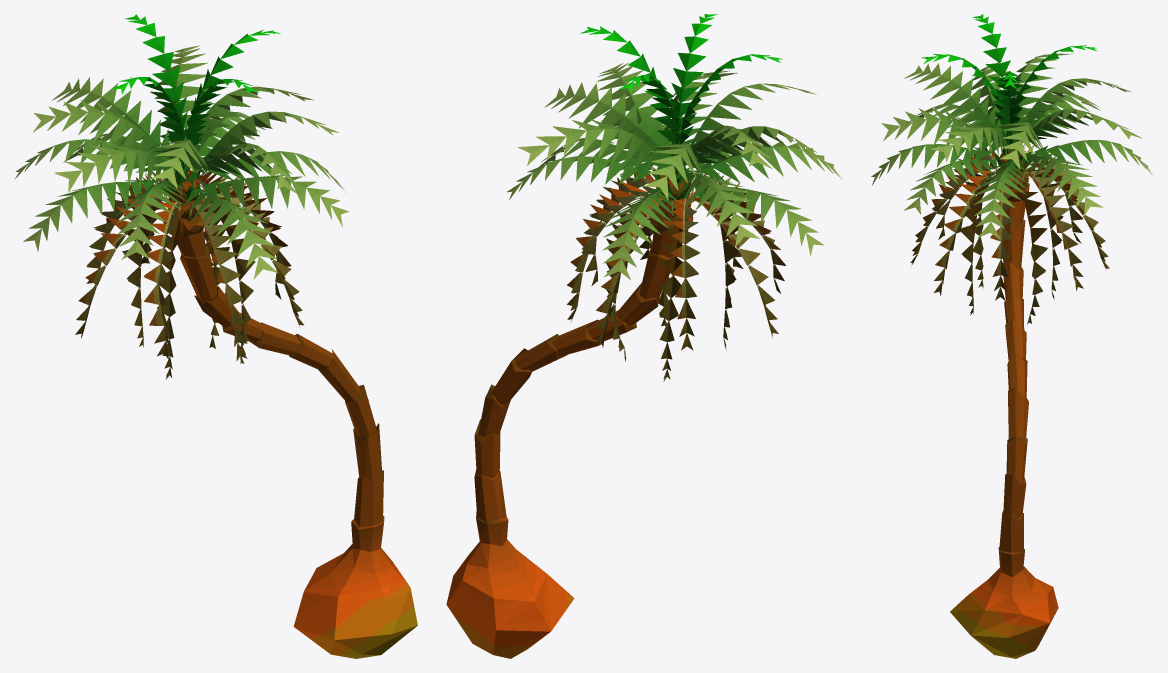
Rendered from ExoticPalmCurve.glb.
3 views of the same model, side by side, from view 1: azimuth 30°, elevation 25°; view 2: azimuth 150°, elevation 25°; view 3: azimuth 270°, elevation 25° (orthographic). The views are drawn at different scales.
Visible parts, largest first — view 1: ExoticPalmCurveLeaves, ExoticPalmCurveGroundBase, ExoticPalmCurveBasicBark.003, ExoticPalmCurveFalenLeaves, ExoticPalmCurveYoungLeaves, ExoticPalmCurveDeathLeaves, ExoticPalmCurveExtraBark; view 2: ExoticPalmCurveLeaves, ExoticPalmCurveGroundBase, ExoticPalmCurveBasicBark.003, ExoticPalmCurveFalenLeaves, ExoticPalmCurveYoungLeaves, ExoticPalmCurveDeathLeaves, ExoticPalmCurveExtraBark; view 3: ExoticPalmCurveLeaves, ExoticPalmCurveGroundBase, ExoticPalmCurveBasicBark.003, ExoticPalmCurveFalenLeaves, ExoticPalmCurveDeathLeaves, ExoticPalmCurveYoungLeaves, ExoticPalmCurveExtraBark.
Boxes of the visible parts, x1,y1,x2,y2 form: ExoticPalmCurveLeaves: [14, 45, 348, 279]; ExoticPalmCurveGroundBase: [293, 515, 417, 658]; ExoticPalmCurveBasicBark.003: [175, 216, 383, 527]; ExoticPalmCurveFalenLeaves: [75, 170, 303, 360]; ExoticPalmCurveYoungLeaves: [111, 14, 280, 170]; ExoticPalmCurveDeathLeaves: [122, 192, 255, 379]; ExoticPalmCurveExtraBark: [163, 169, 204, 237]; ExoticPalmCurveLeaves: [507, 63, 842, 279]; ExoticPalmCurveGroundBase: [446, 512, 574, 658]; ExoticPalmCurveBasicBark.003: [474, 229, 688, 522]; ExoticPalmCurveFalenLeaves: [567, 166, 786, 350]; ExoticPalmCurveYoungLeaves: [580, 14, 782, 165]; ExoticPalmCurveDeathLeaves: [606, 176, 739, 381]; ExoticPalmCurveExtraBark: [650, 169, 693, 234]; ExoticPalmCurveLeaves: [871, 53, 1152, 239]; ExoticPalmCurveGroundBase: [950, 547, 1058, 658]; ExoticPalmCurveBasicBark.003: [999, 188, 1028, 552]; ExoticPalmCurveFalenLeaves: [910, 144, 1109, 300]; ExoticPalmCurveDeathLeaves: [960, 162, 1063, 324]; ExoticPalmCurveYoungLeaves: [921, 14, 1097, 144]; ExoticPalmCurveExtraBark: [995, 148, 1029, 201].
Size of the model in its own units: 6.21 by 10.48 by 4.96.
Materials: 1 (1 with a texture image).
